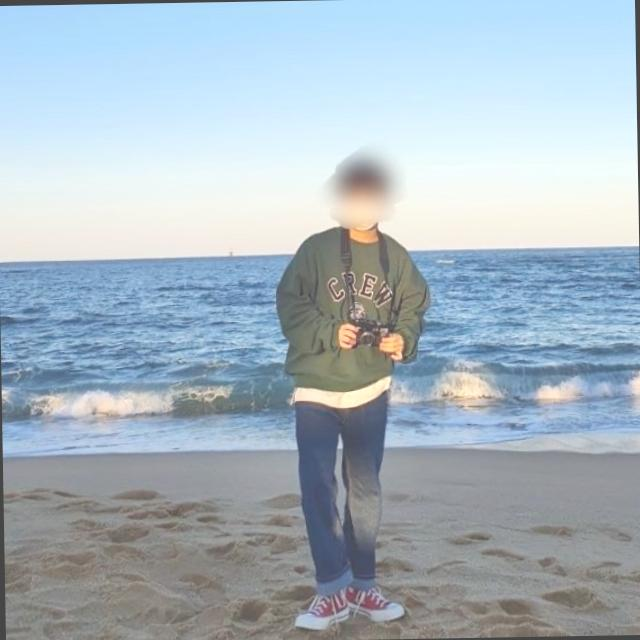denimpants: (294, 382, 391, 590)
mtm: (274, 224, 428, 393)
